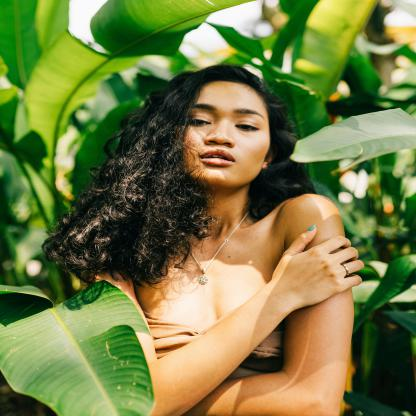Eye: (185, 112, 216, 128), (236, 118, 263, 134)
Mouth: (196, 147, 243, 171)
Nose: (205, 124, 239, 148)
